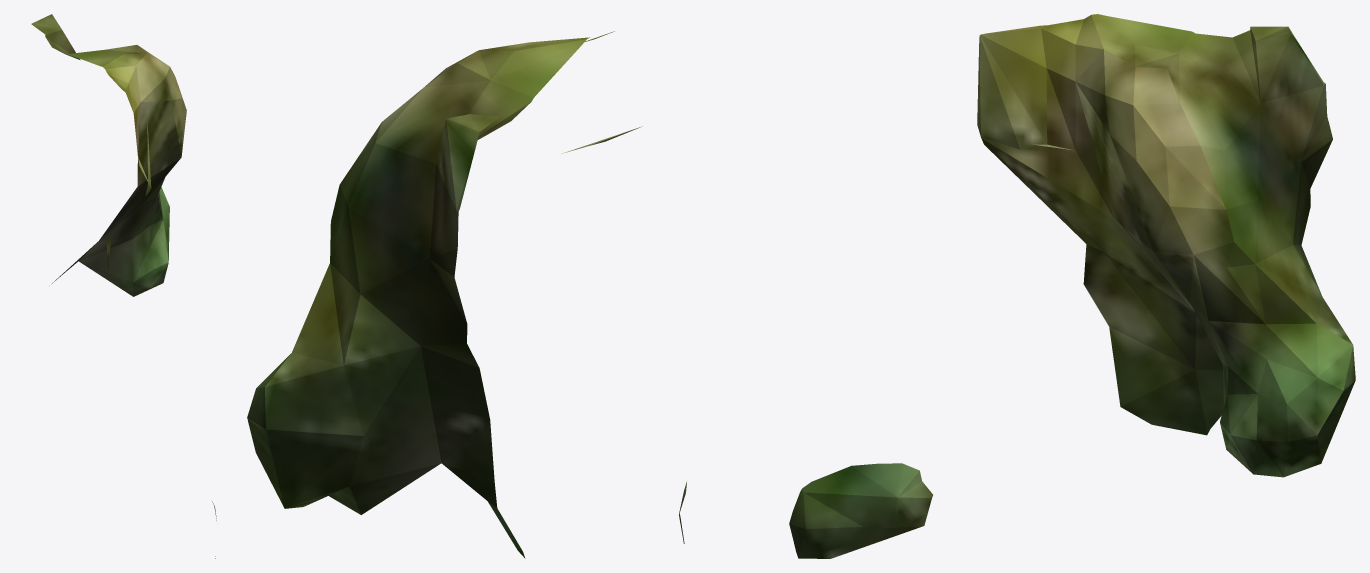
3 renders of one model, left to right at view 1: azimuth 30°, elevation 25°; view 2: azimuth 150°, elevation 25°; view 3: azimuth 270°, elevation 25°, orthographic. The views are drawn at different scales.
Size of the model in its own units: 0.0728 by 0.2056 by 0.1939.
Materials: 1 (1 with a texture image).
